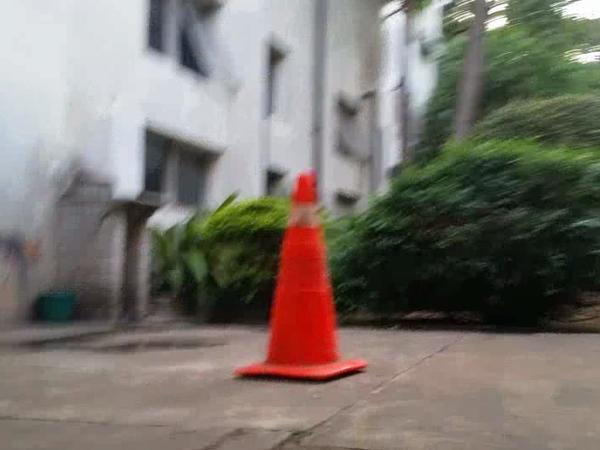0 cone: (238, 173, 364, 379)
